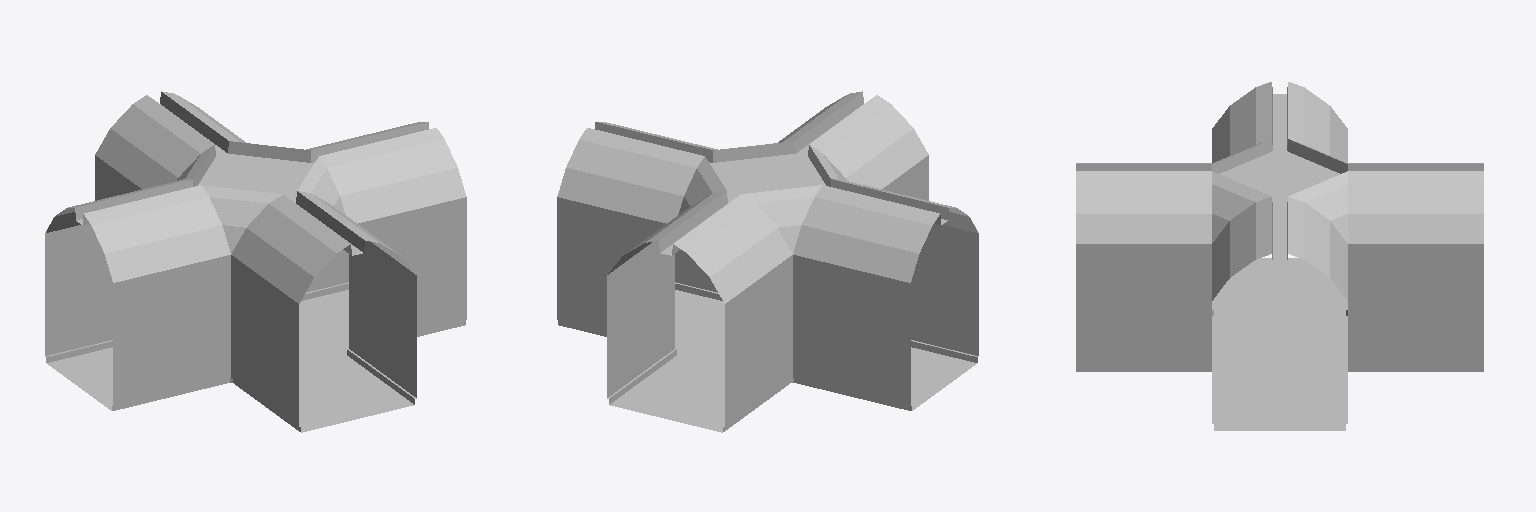
File: 4way.obj
3 views of the same model, side by side, from view 1: azimuth 30°, elevation 25°; view 2: azimuth 150°, elevation 25°; view 3: azimuth 270°, elevation 25° (orthographic).
Parts seen in each view (by area): view 1: 4way; view 2: 4way; view 3: 4way.
Boxes of the visible parts, x1,y1,x2,y2 form: 4way: [45, 91, 466, 432]; 4way: [557, 91, 978, 432]; 4way: [1076, 82, 1483, 430].
Bounding box in the file's own units: 180 × 85.98 × 180.